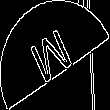M_SE: (29, 22, 81, 88)
